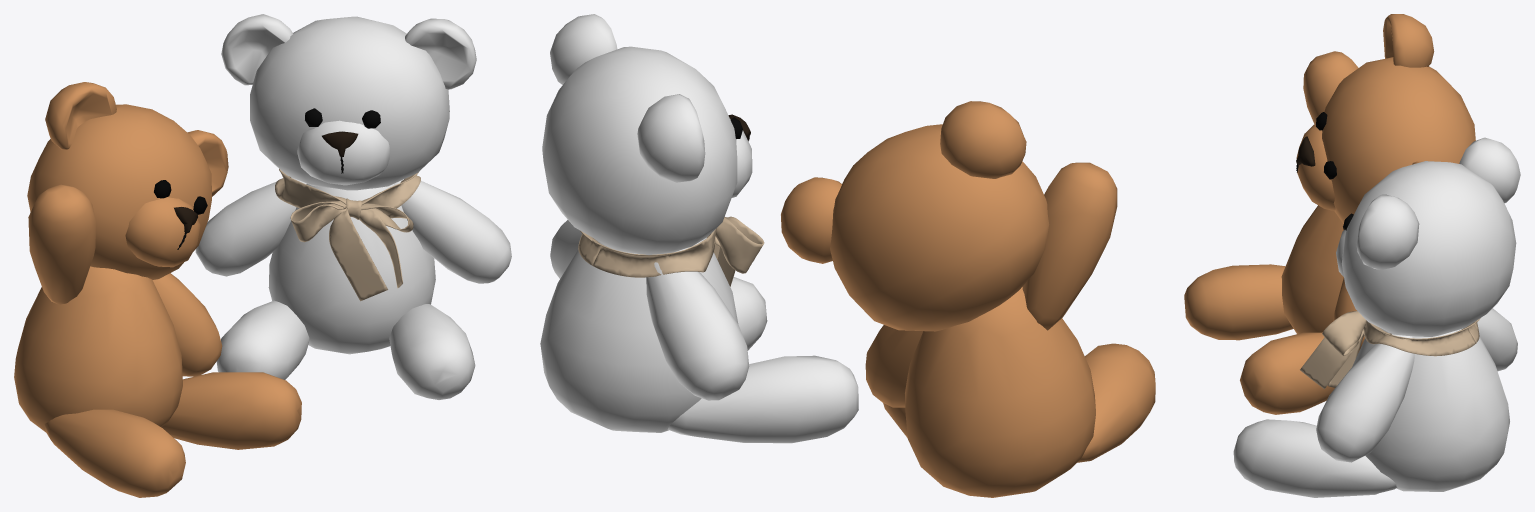
Rendered from bears_decimated.fbx.
3 views of the same model, side by side, from view 1: azimuth 30°, elevation 25°; view 2: azimuth 150°, elevation 25°; view 3: azimuth 270°, elevation 25° (orthographic). The views are drawn at different scales.
Parts seen in each view (by area): view 1: bear.009, bear.002, bow_bear; view 2: bear.009, bear.002, bow_bear; view 3: bear.002, bear.009, bow_bear.
Part boxes in pixels (x1=…): bear.009: x1=14, y1=82, x2=301, y2=497; bear.002: x1=195, y1=14, x2=511, y2=399; bow_bear: x1=275, y1=169, x2=420, y2=301; bear.009: x1=781, y1=101, x2=1155, y2=497; bear.002: x1=540, y1=14, x2=858, y2=443; bow_bear: x1=578, y1=216, x2=764, y2=286; bear.002: x1=1233, y1=137, x2=1520, y2=497; bear.009: x1=1184, y1=14, x2=1475, y2=414; bow_bear: x1=1300, y1=311, x2=1480, y2=389.
Bounding box in the file's own units: 552 × 381 × 340.
